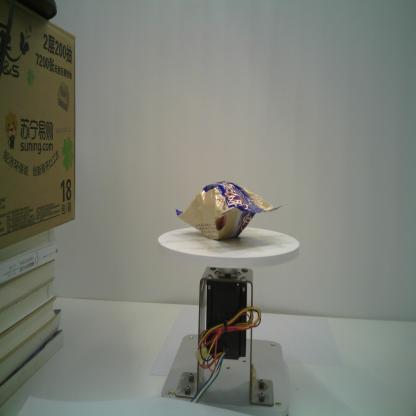Dessert: (174, 180, 282, 240)
